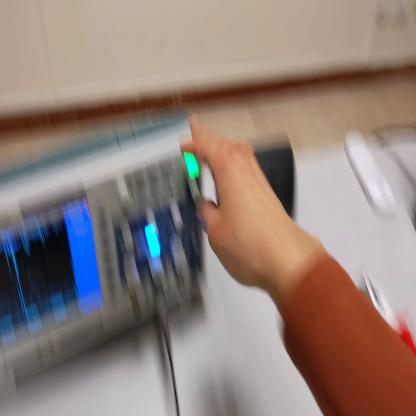hand: (180, 119, 287, 290)
oscilloscope: (1, 109, 214, 391)
pliers: (363, 274, 416, 355)
